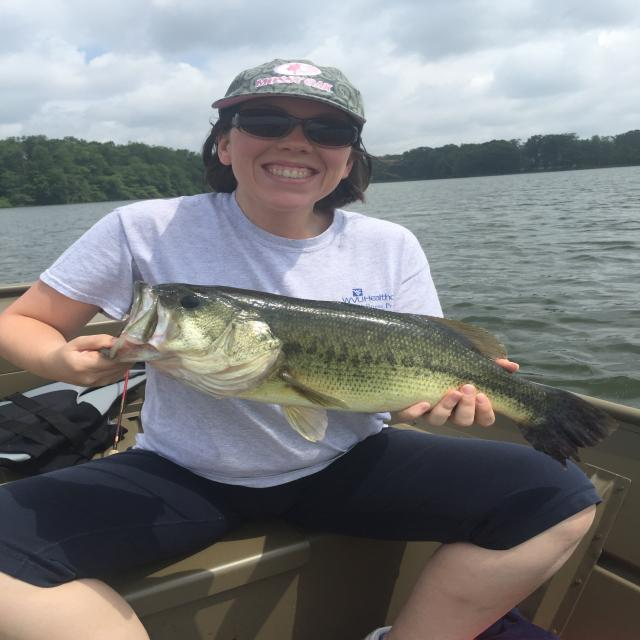Bass - Largemouth: (101, 281, 616, 465)
